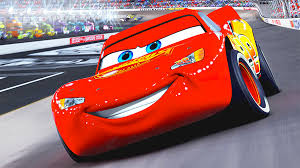mcqueen: (51, 5, 281, 163)
